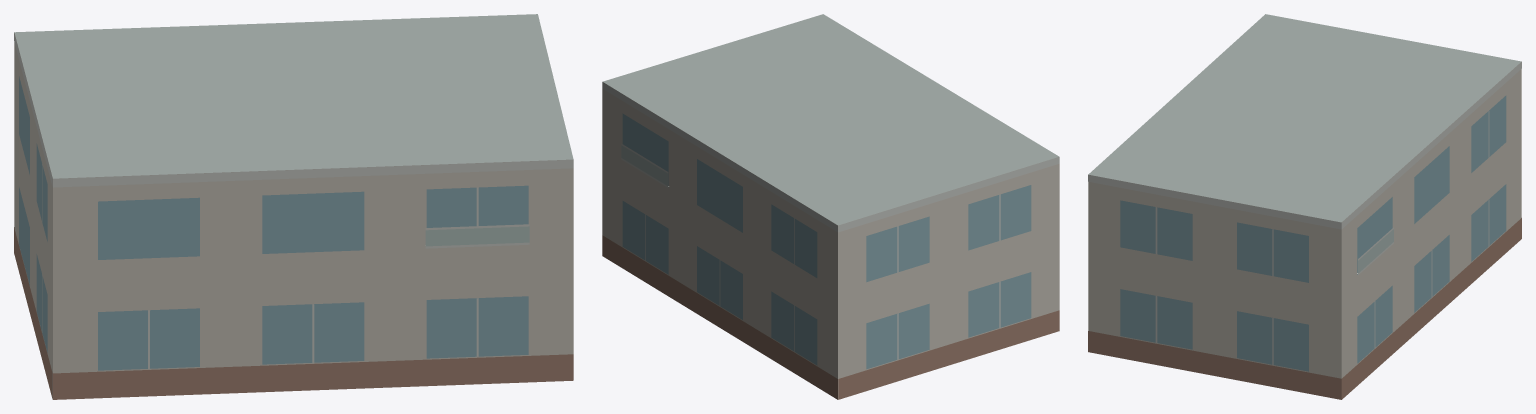
File: survey-upis-32670529.glb
The picture shows the model from 3 angles, left to right: view 1: azimuth 30°, elevation 25°; view 2: azimuth 150°, elevation 25°; view 3: azimuth 270°, elevation 25°; orthographic projection. The views are drawn at different scales.
Visible parts, largest first — view 1: survey-upis-32670529.tmp; view 2: survey-upis-32670529.tmp; view 3: survey-upis-32670529.tmp.
Boxes of the visible parts, x1,y1,x2,y2 form: survey-upis-32670529.tmp: [14, 14, 573, 399]; survey-upis-32670529.tmp: [602, 14, 1059, 399]; survey-upis-32670529.tmp: [1088, 14, 1521, 399].
Bounding box in the file's own units: 15.38 × 6.1 × 13.52.
